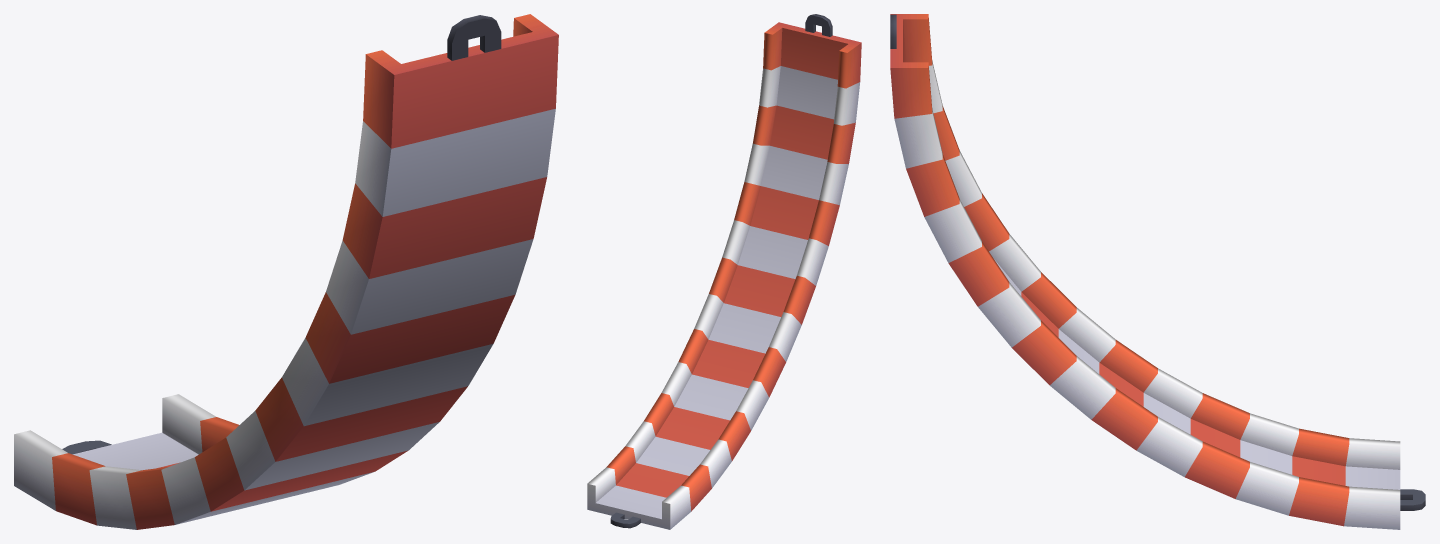
Rendered from kenney-toy-car-track-striped-narrow-straight-bend-large.glb.
3 renders of one model, left to right at view 1: azimuth 30°, elevation 25°; view 2: azimuth 150°, elevation 25°; view 3: azimuth 270°, elevation 25°, orthographic. The views are drawn at different scales.
Visible parts, largest first — view 1: track-striped-narrow-straight-bend-large; view 2: track-striped-narrow-straight-bend-large; view 3: track-striped-narrow-straight-bend-large.
Boxes of the visible parts, box(x1,y1,x2,y2) form: track-striped-narrow-straight-bend-large: box(14, 14, 558, 529); track-striped-narrow-straight-bend-large: box(587, 14, 861, 529); track-striped-narrow-straight-bend-large: box(890, 14, 1425, 529).
Size of the model in its own units: 0.9998 by 4.2 by 4.2.
Materials: 1 (1 with a texture image).
